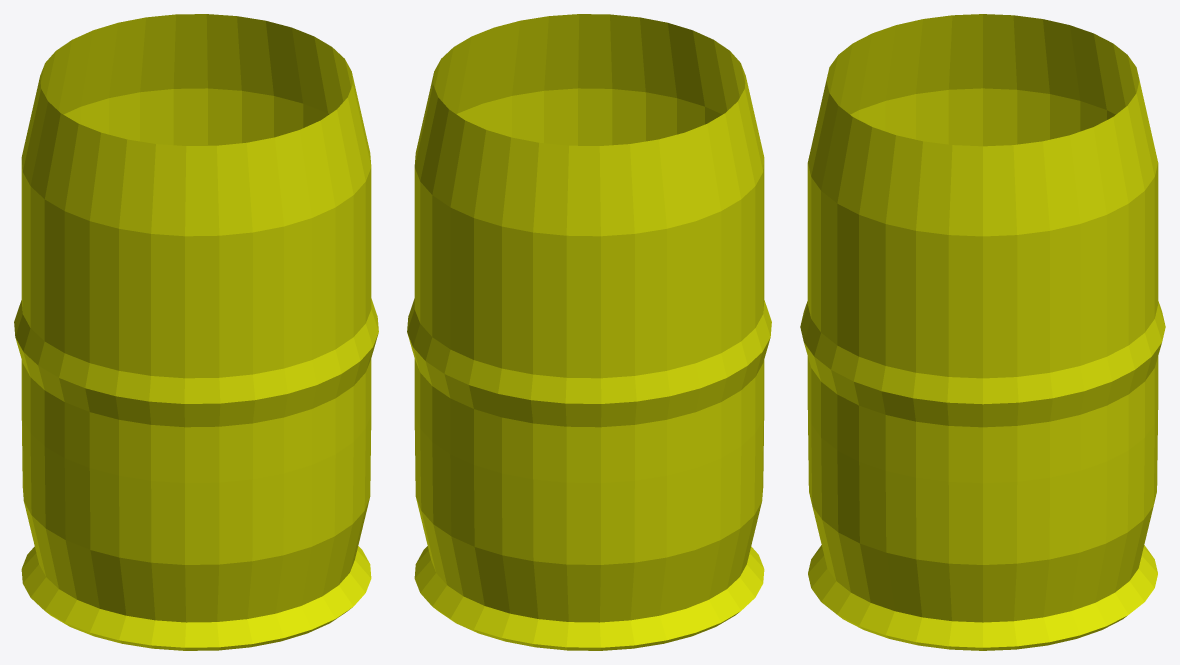
Rendered from cuboamarillo.glb.
3 views of the same model, side by side, from view 1: azimuth 30°, elevation 25°; view 2: azimuth 150°, elevation 25°; view 3: azimuth 270°, elevation 25° (orthographic).
Visible parts, largest first — view 1: Cylinder; view 2: Cylinder; view 3: Cylinder.
Part boxes in pixels (box(x1,y1,x2,y2)): Cylinder: box(14, 14, 378, 650); Cylinder: box(407, 14, 771, 650); Cylinder: box(800, 14, 1165, 650).
Size of the model in its own units: 2.09 by 3.15 by 2.09.
